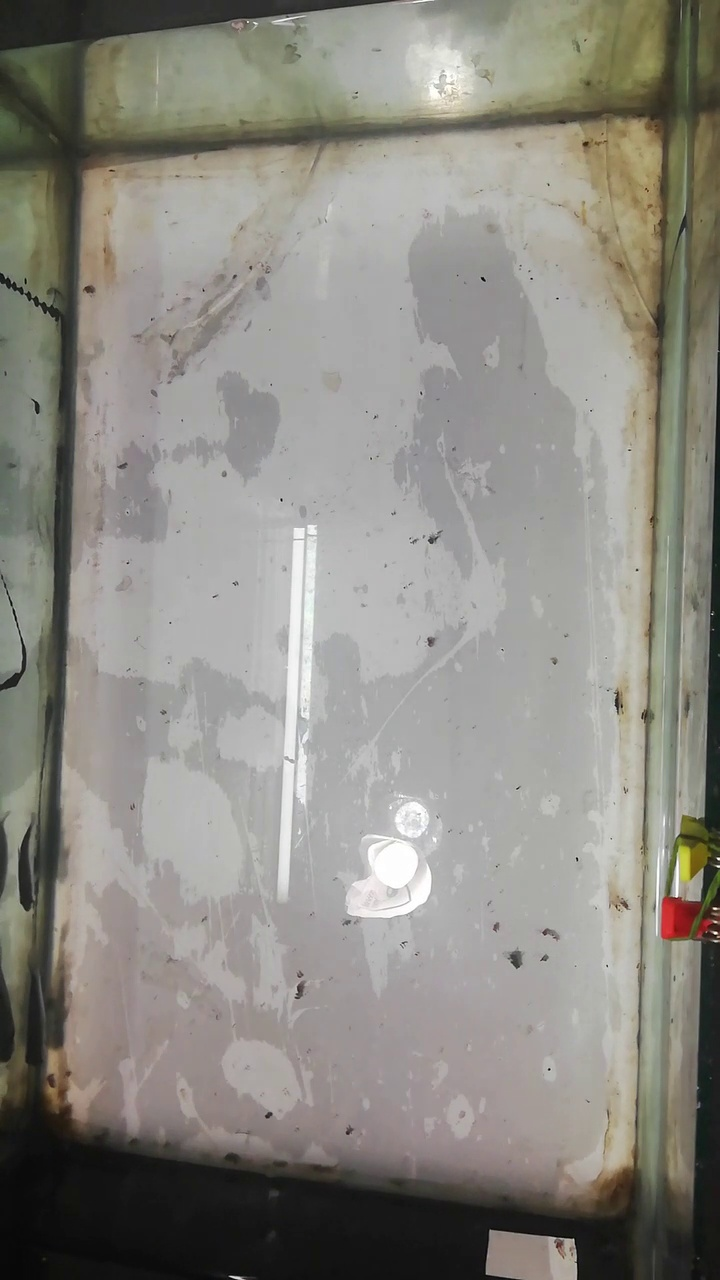fish1: (22, 963, 53, 1075)
fish2: (18, 822, 42, 910)
